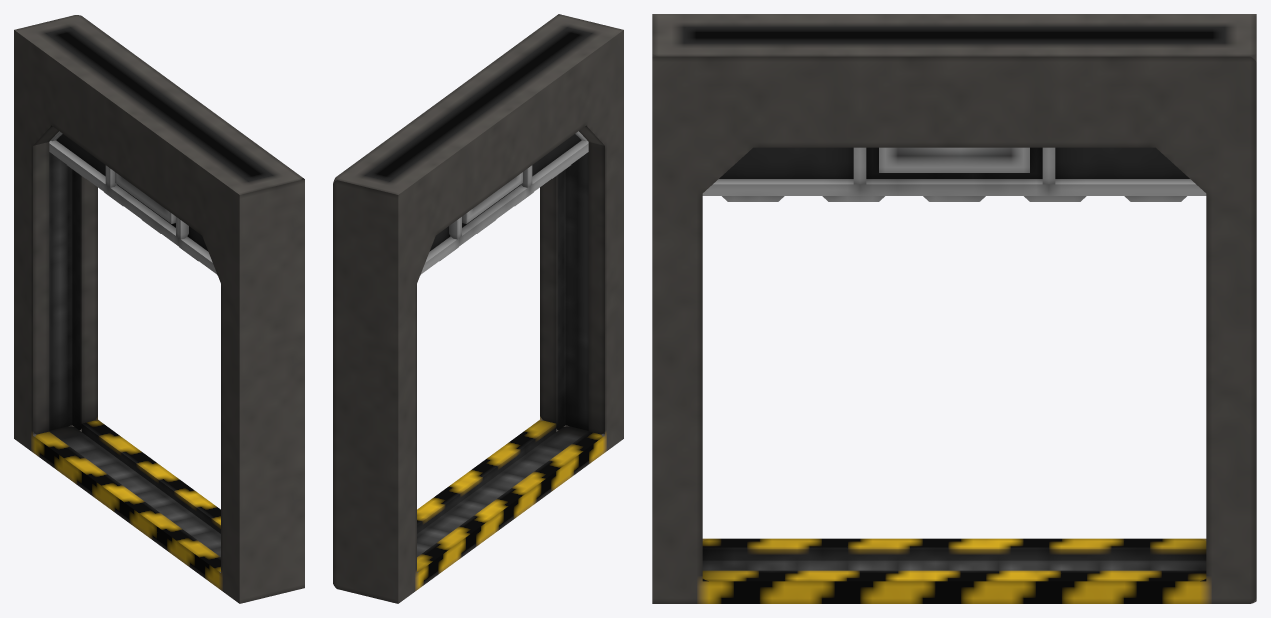
File: qe_containment_146.obj
The picture shows the model from 3 angles, left to right: view 1: azimuth 30°, elevation 25°; view 2: azimuth 150°, elevation 25°; view 3: azimuth 270°, elevation 25°; orthographic projection. The views are drawn at different scales.
Visible parts, largest first — view 1: Frame, Door; view 2: Frame, Door; view 3: Frame, Door.
Part boxes in pixels (<box>): Frame: <box>14,15,304,603</box>; Door: <box>49,131,217,275</box>; Frame: <box>333,14,623,603</box>; Door: <box>420,131,588,275</box>; Frame: <box>652,14,1256,603</box>; Door: <box>702,147,1206,201</box>.
Size of the model in its own units: 0.5 by 3 by 3.
